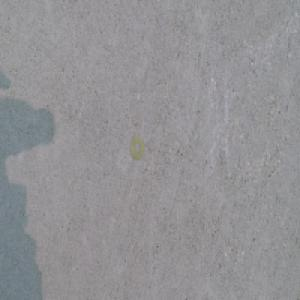Washer: (129, 135, 145, 160)
